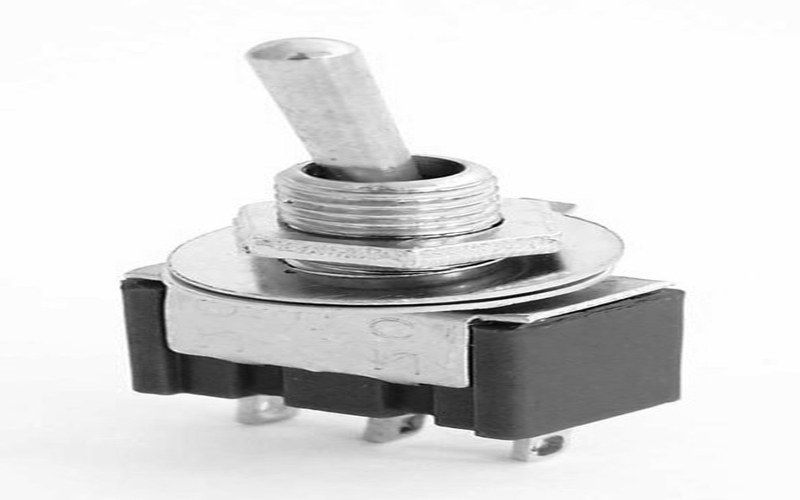Switches: (166, 11, 619, 335)
